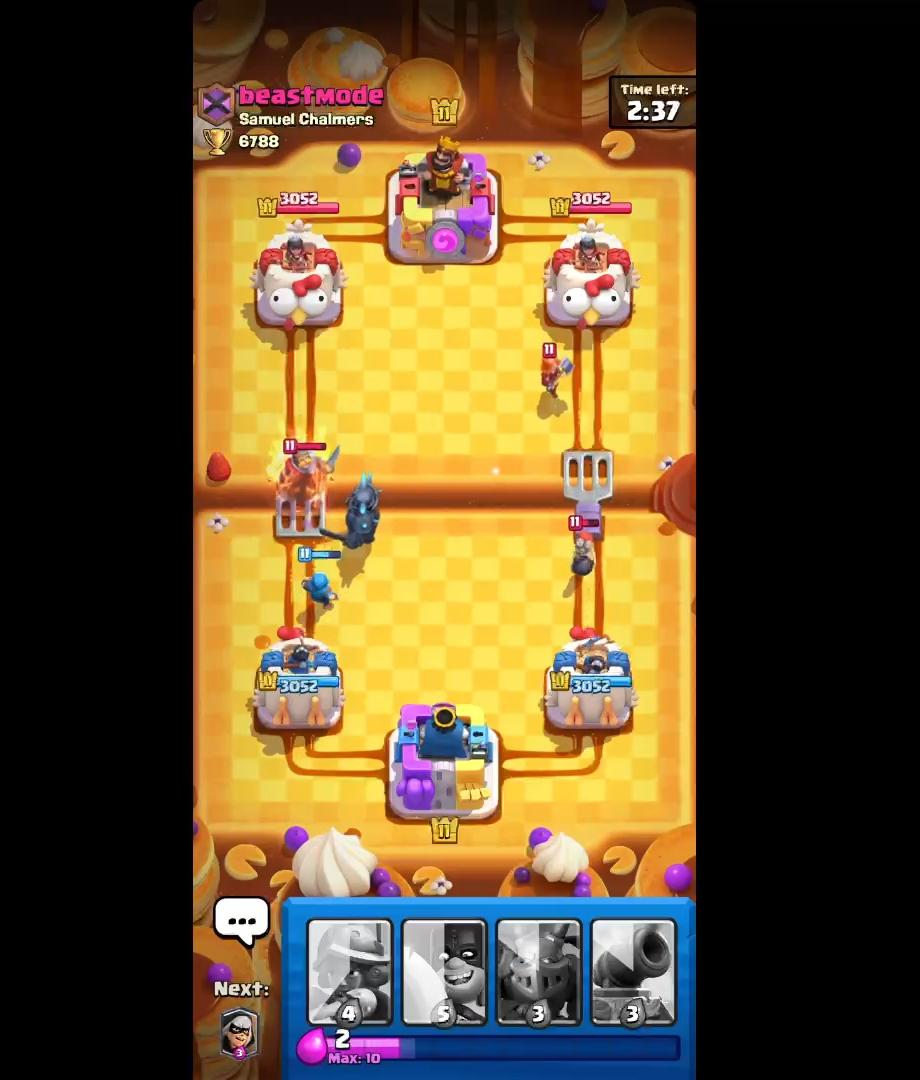Bomber: (566, 503, 602, 579)
Knight: (284, 438, 339, 502)
Valkyrie: (542, 354, 575, 398)
